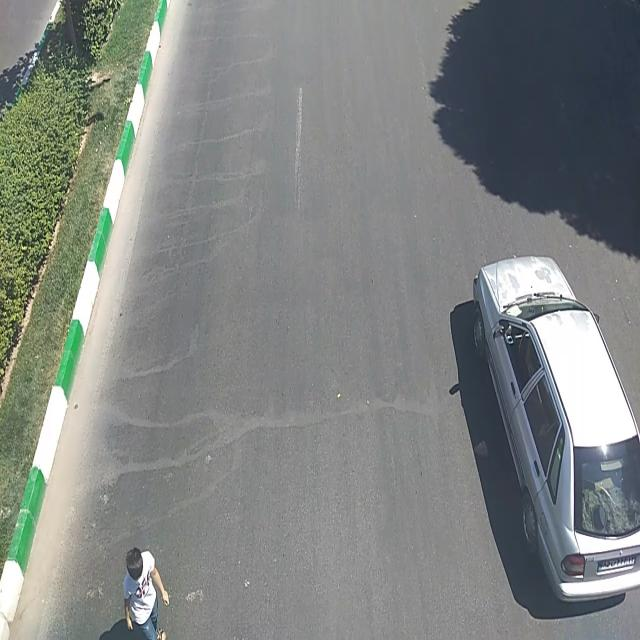car: (468, 254, 640, 608)
